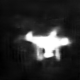plane: (17, 25, 73, 63)
